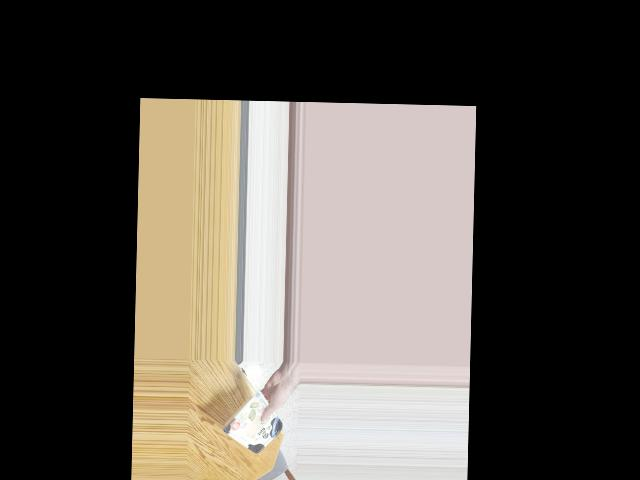cheese: (231, 395, 275, 452)
